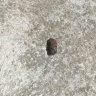Dog: (46, 39, 58, 53)
